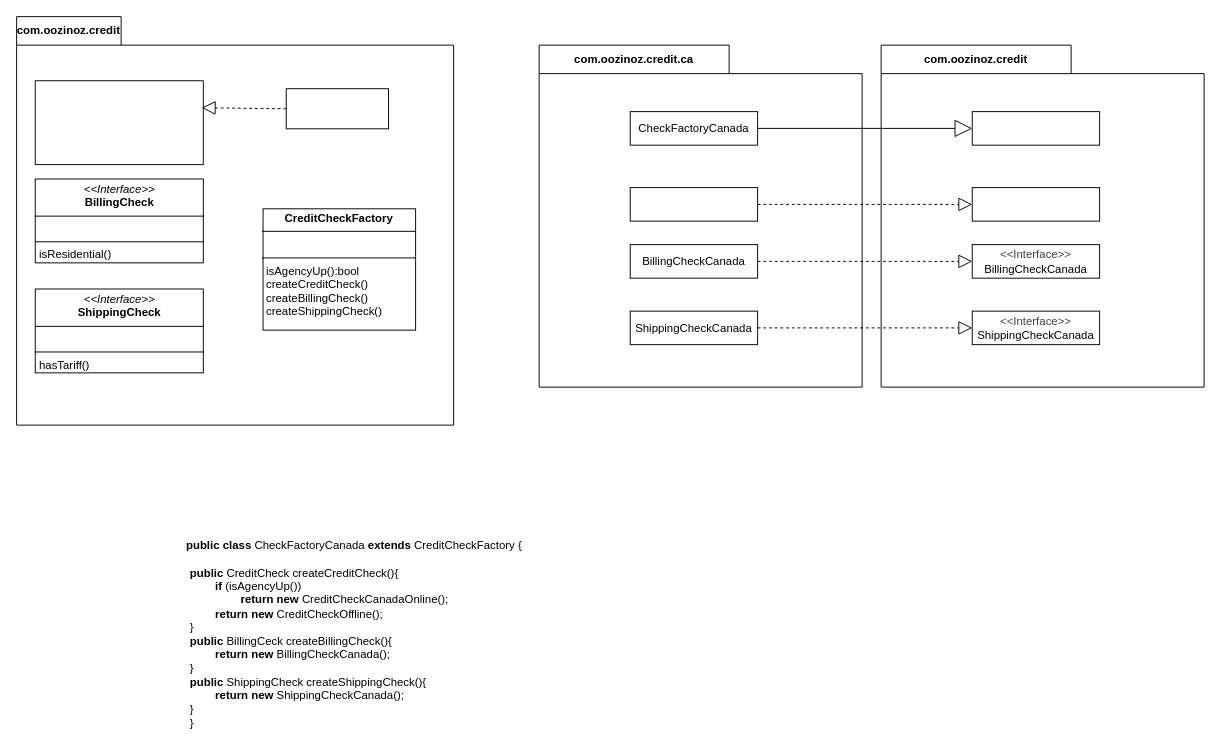
The diagram is 1221 pixels wide and 755 high, and some of its shapes have lost their labels. Each missing label, with the centre of its shape:
"<<Interface>> CreditCheck creditLimit(id:int)" goes at point 118,122.
"<<Interface>> CreditCheckCanada" goes at point 1035,204.
"CreditCheckCanada" goes at point 693,204.
"CreditCheckFactory" goes at point 1035,128.
"CreditCheckOffline" goes at point 337,108.
